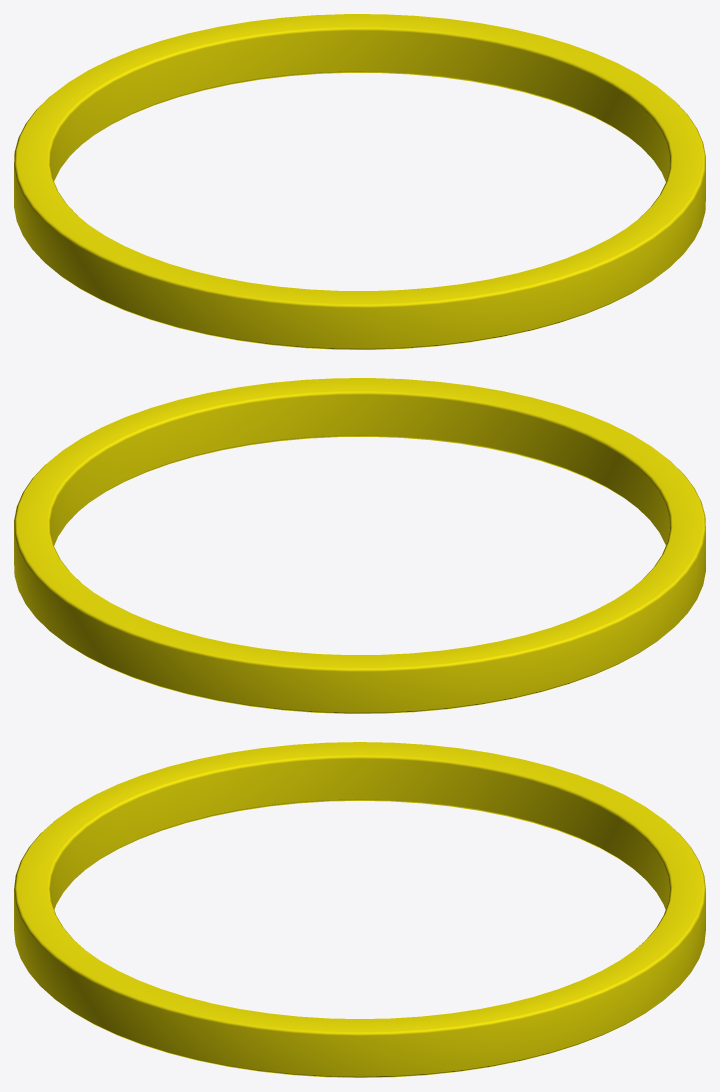
3 renders of one model, top to bottom at view 1: azimuth 30°, elevation 25°; view 2: azimuth 150°, elevation 25°; view 3: azimuth 270°, elevation 25°, orthographic.
Parts seen in each view (by area): view 1: seal_body; view 2: seal_body; view 3: seal_body.
Part boxes in pixels (bbox=[...]): seal_body: bbox=[14, 14, 705, 349]; seal_body: bbox=[14, 378, 705, 713]; seal_body: bbox=[14, 742, 705, 1077].
Bounding box in the file's own units: 0.0953 × 0.007 × 0.0953.
